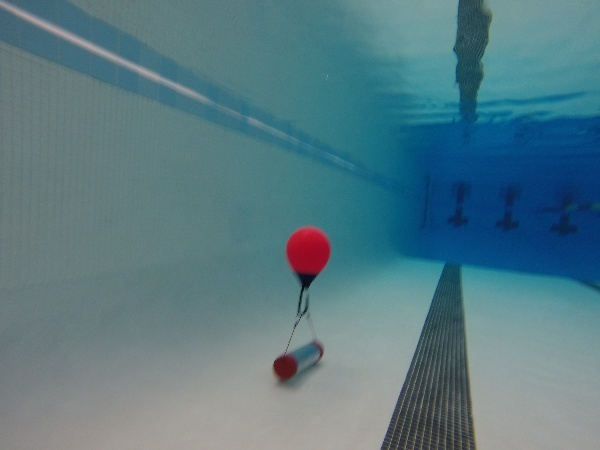buoy_red: (280, 221, 336, 294)
